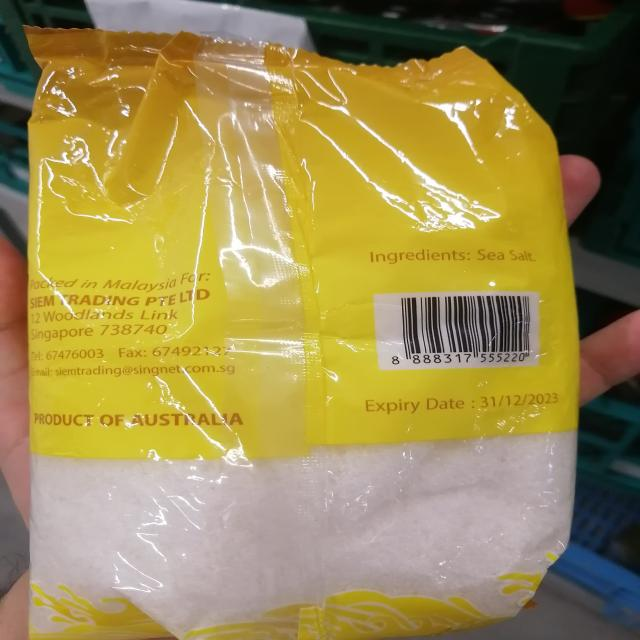object_name: (37, 43, 561, 619)
